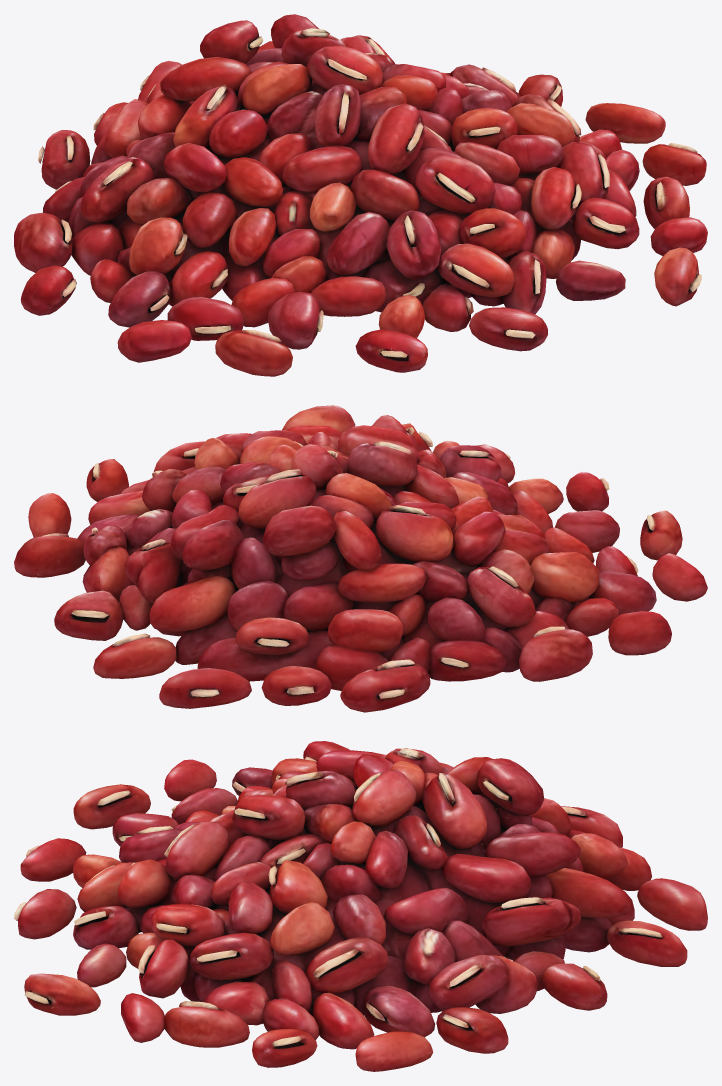
File: lod_basic_shaded.fbx
The picture shows the model from 3 angles, top to bottom: view 1: azimuth 30°, elevation 25°; view 2: azimuth 150°, elevation 25°; view 3: azimuth 270°, elevation 25°; orthographic projection. The views are drawn at different scales.
Visible parts, largest first — view 1: model_LOD0; view 2: model_LOD0; view 3: model_LOD0.
Boxes of the visible parts, x1,y1,x2,y2 form: model_LOD0: (14,14,707,376); model_LOD0: (14,405,707,712); model_LOD0: (14,741,707,1071).
Size of what is drawn, in the model's own units: 190 by 47.4 by 178.
